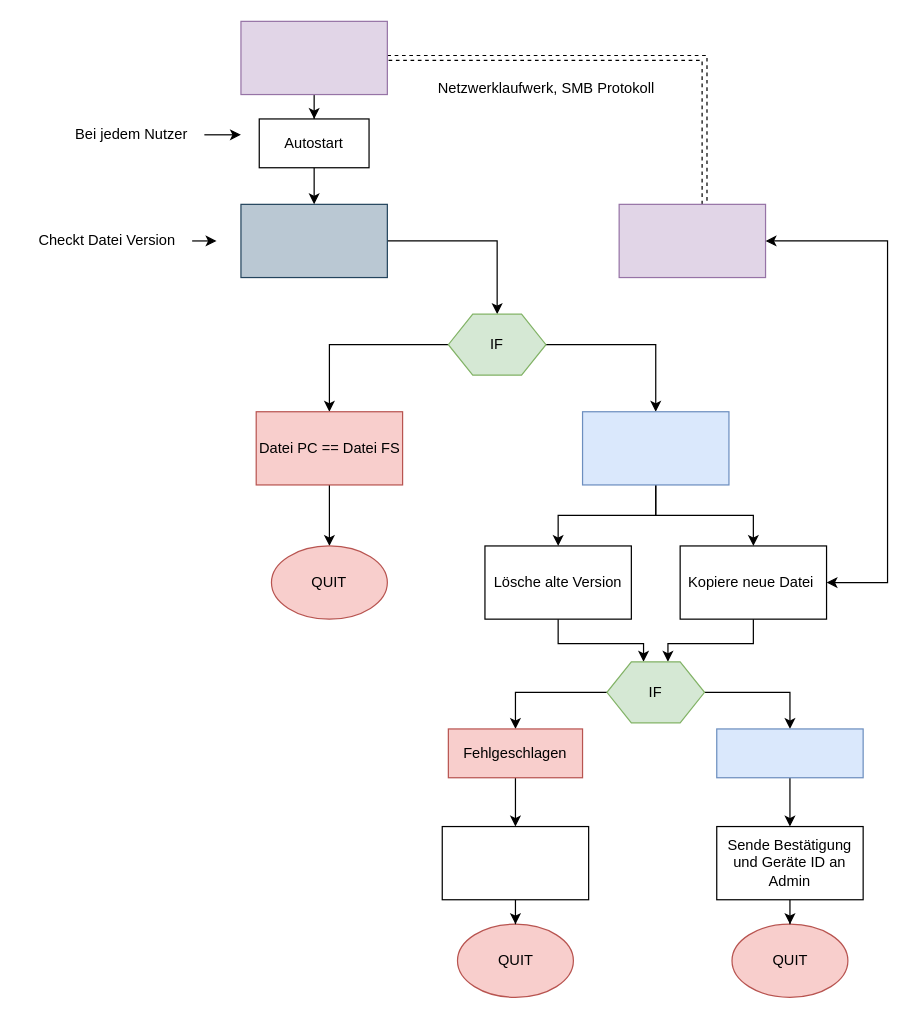
This 920x1019 diagram has some shape labels left out. Here are the shapes that lost their labels. From the top down, the centre of each, then its label:
At point (313, 57): "User PC".
At point (313, 240): "Batch Skript".
At point (692, 240): "Fileserver Datei Version 2".
At point (655, 448): "Datei PC != Datei FS".
At point (789, 753): "Funktioniert".
At point (515, 862): "Sende Fehlermeldung und Geräte ID an Admin".
